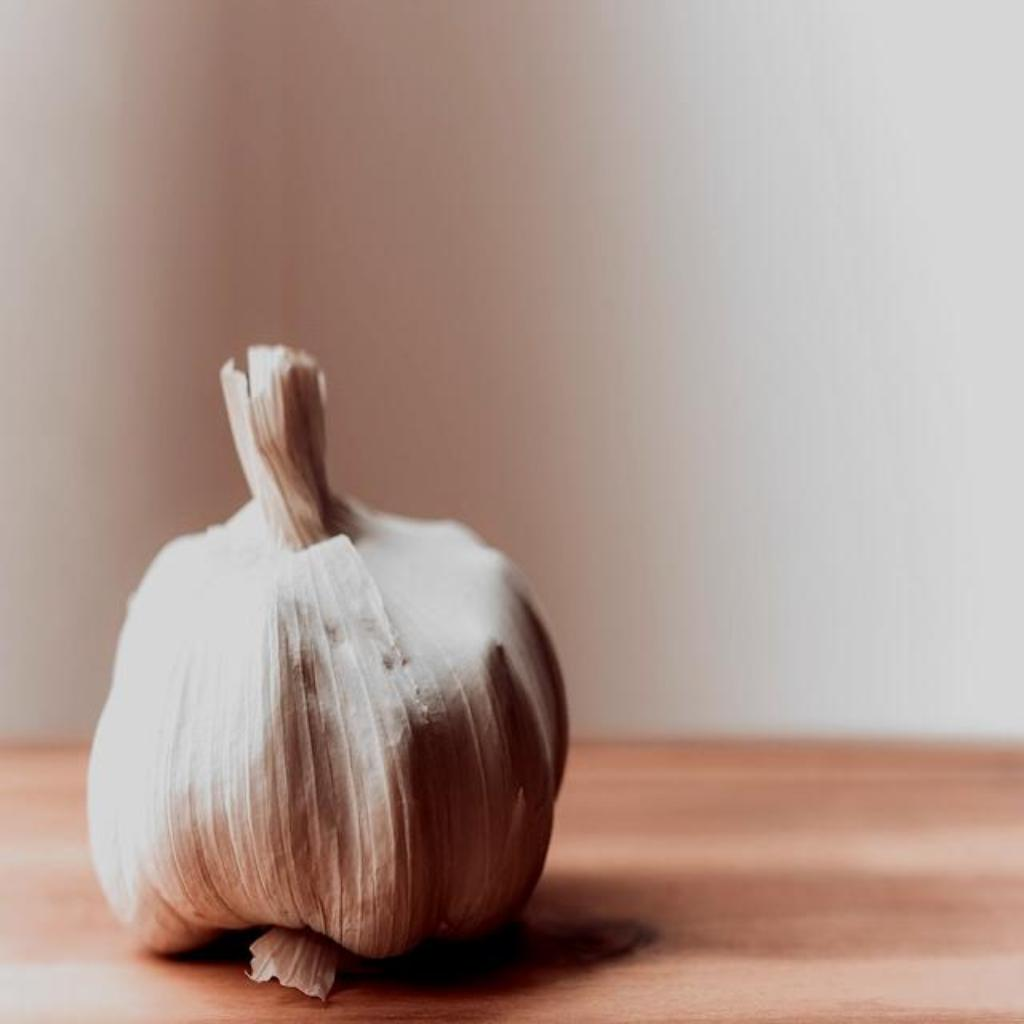garlic: (90, 346, 568, 994)
